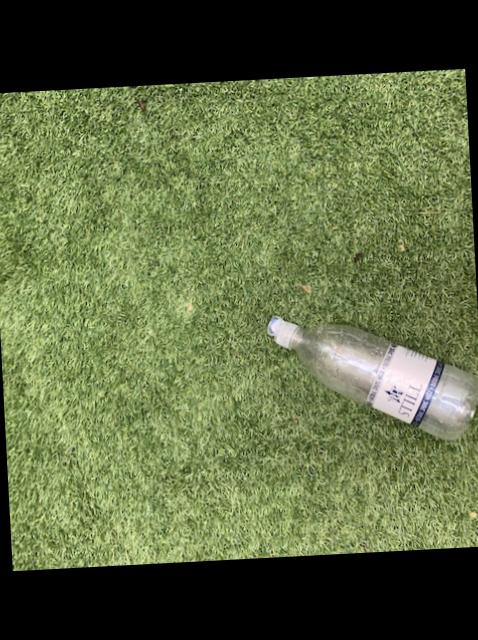plastic: (266, 318, 478, 441)
